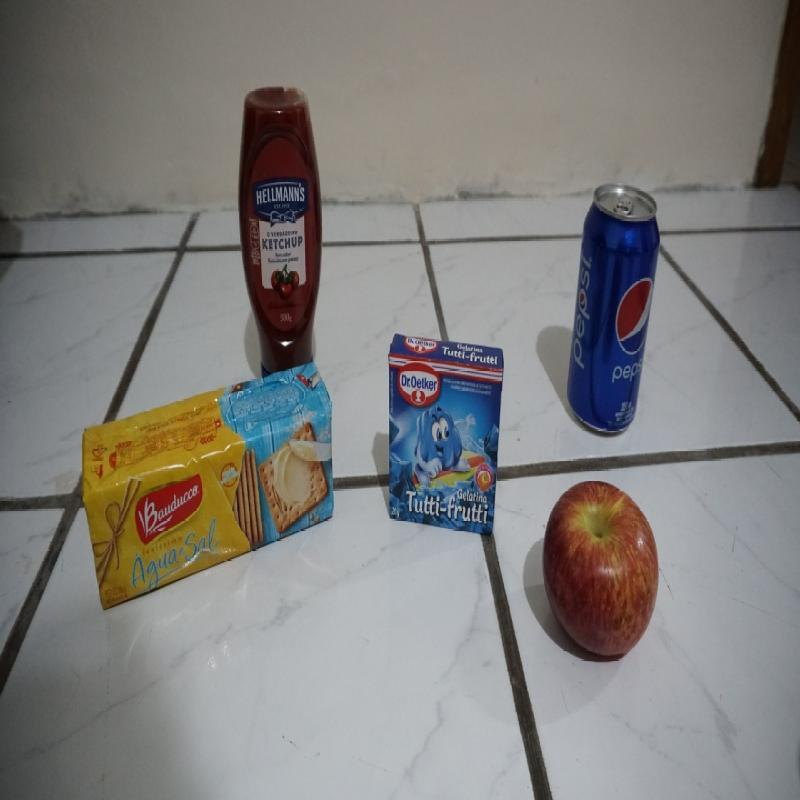Apple: (539, 468, 663, 664)
Cracker: (78, 362, 341, 610)
Gelatine: (383, 331, 506, 539)
Ketchup: (233, 86, 325, 358)
Soda can: (565, 176, 664, 426)
